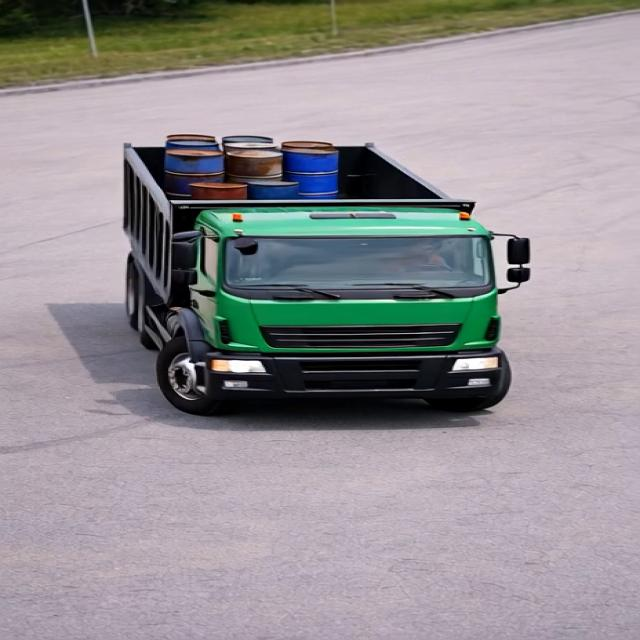trailer: (114, 132, 493, 210)
truck: (100, 87, 536, 434)
